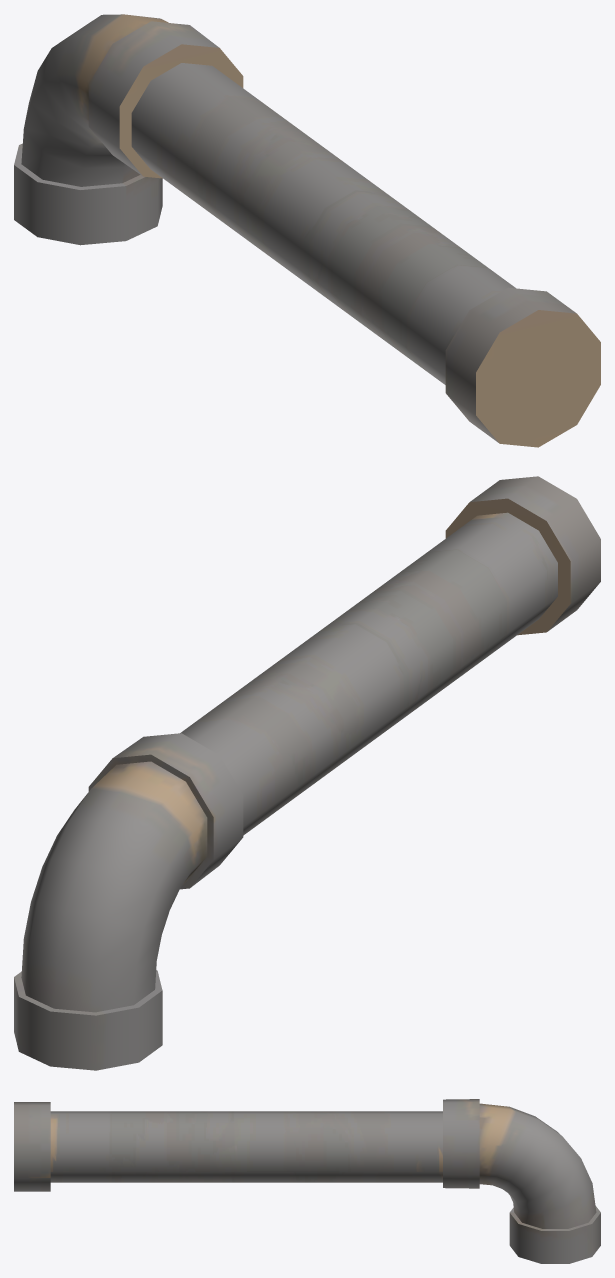
Rendered from props_mining_ceiling_pipe01_thick.glb.
3 renders of one model, top to bottom at view 1: azimuth 30°, elevation 25°; view 2: azimuth 150°, elevation 25°; view 3: azimuth 270°, elevation 25°, orthographic. The views are drawn at different scales.
Visible parts, largest first — view 1: models/props_mining/ceiling_pipe01_thick; view 2: models/props_mining/ceiling_pipe01_thick; view 3: models/props_mining/ceiling_pipe01_thick.
Part boxes in pixels (left/top/right/bottom): models/props_mining/ceiling_pipe01_thick: left=14, top=14, right=600, bottom=447; models/props_mining/ceiling_pipe01_thick: left=14, top=476, right=600, bottom=1070; models/props_mining/ceiling_pipe01_thick: left=14, top=1099, right=600, bottom=1263.
Size of the model in its own units: 9.51 by 17.3 by 64.29.
1 material, 1 textured.
